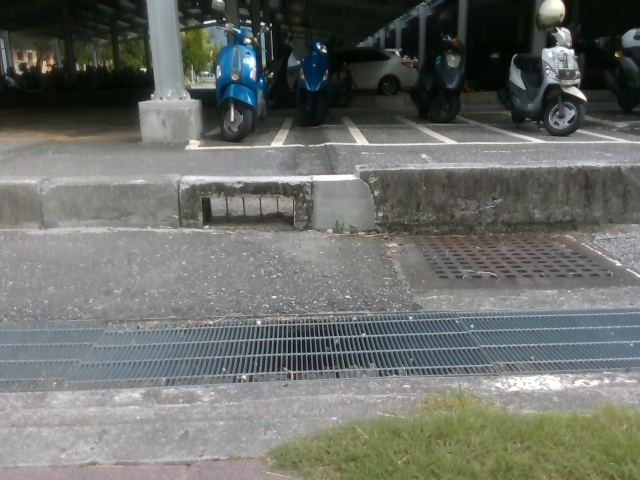grass: (258, 387, 639, 479), (371, 179, 575, 236)
road: (0, 94, 639, 479)
sidewalk: (0, 98, 333, 229)
